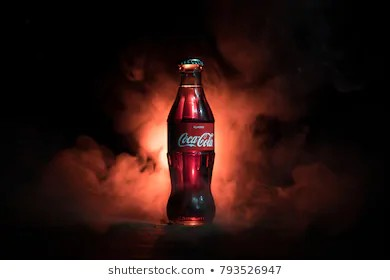coke-glass-bottle: (165, 58, 216, 228)
